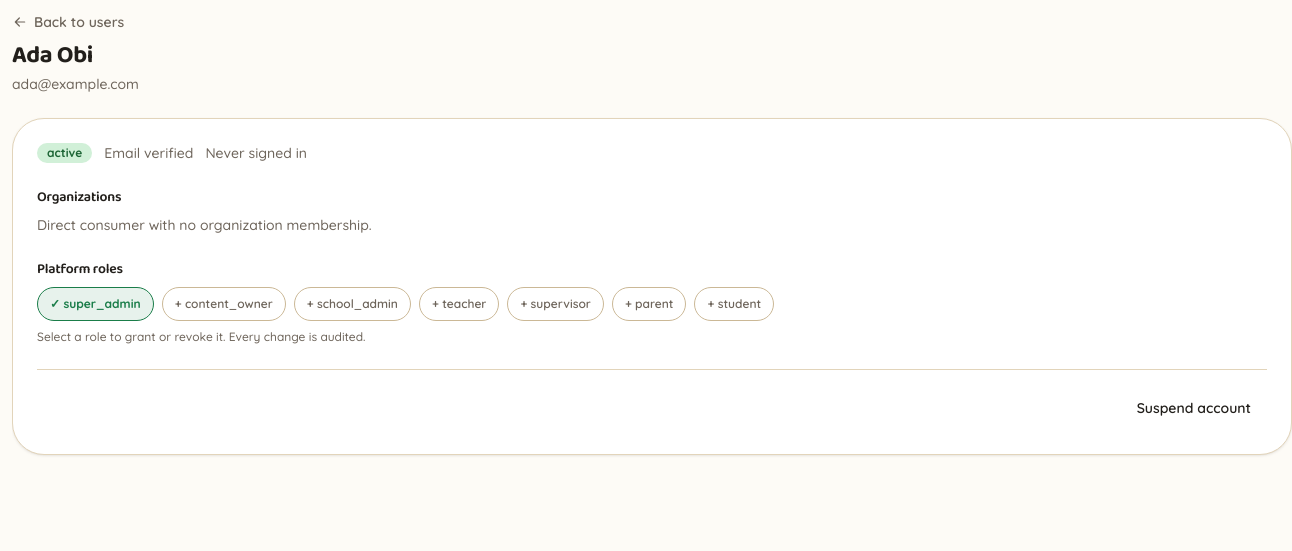
UsersPage and UserDetailPage › surfaces the self-lockout response
Click the button "✓ super_admin": coordinates (95, 304) [37,287,154,321]
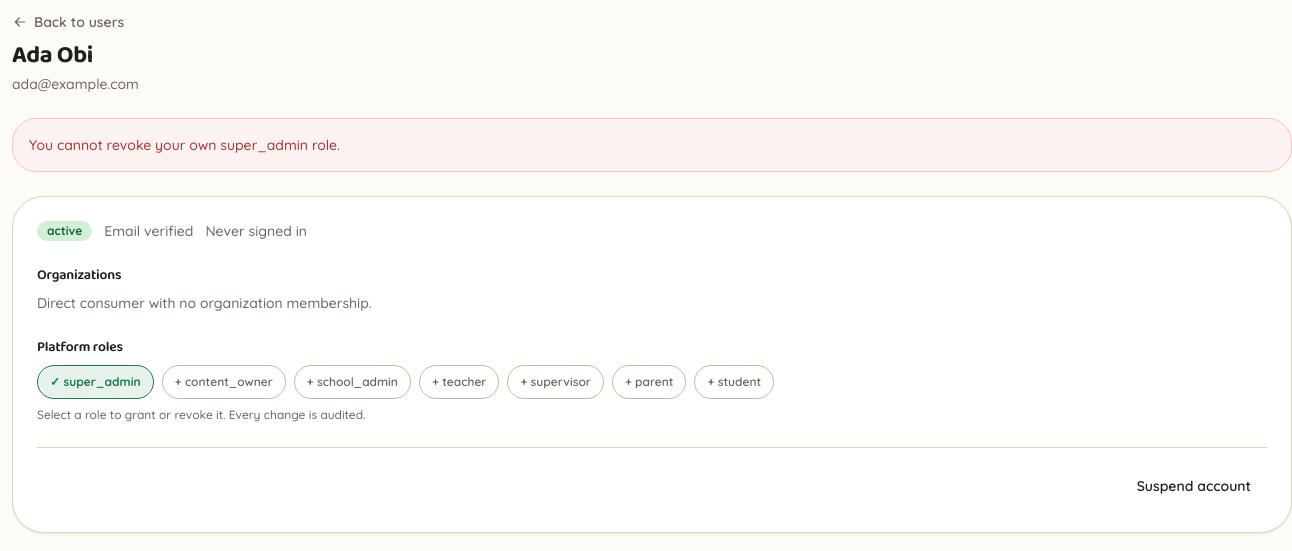
Expected: the text "You cannot revoke your own super_admin role." is shown, [29,135,340,155]
